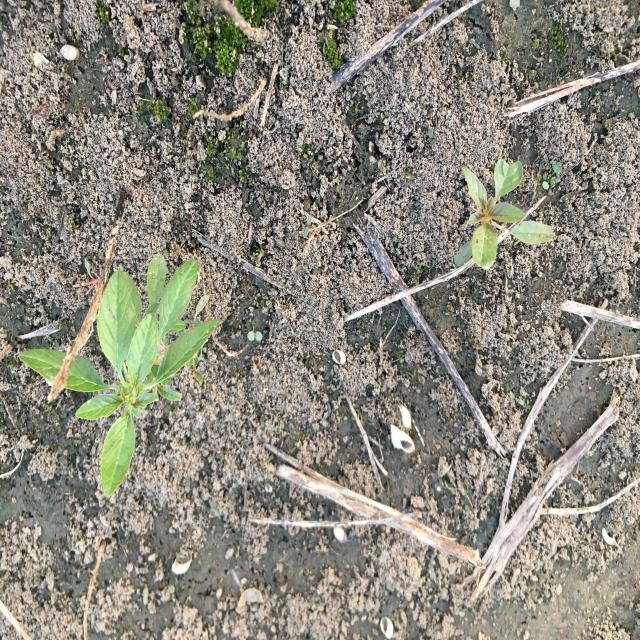Waterhemp: (18, 252, 224, 500), (453, 157, 555, 272)
